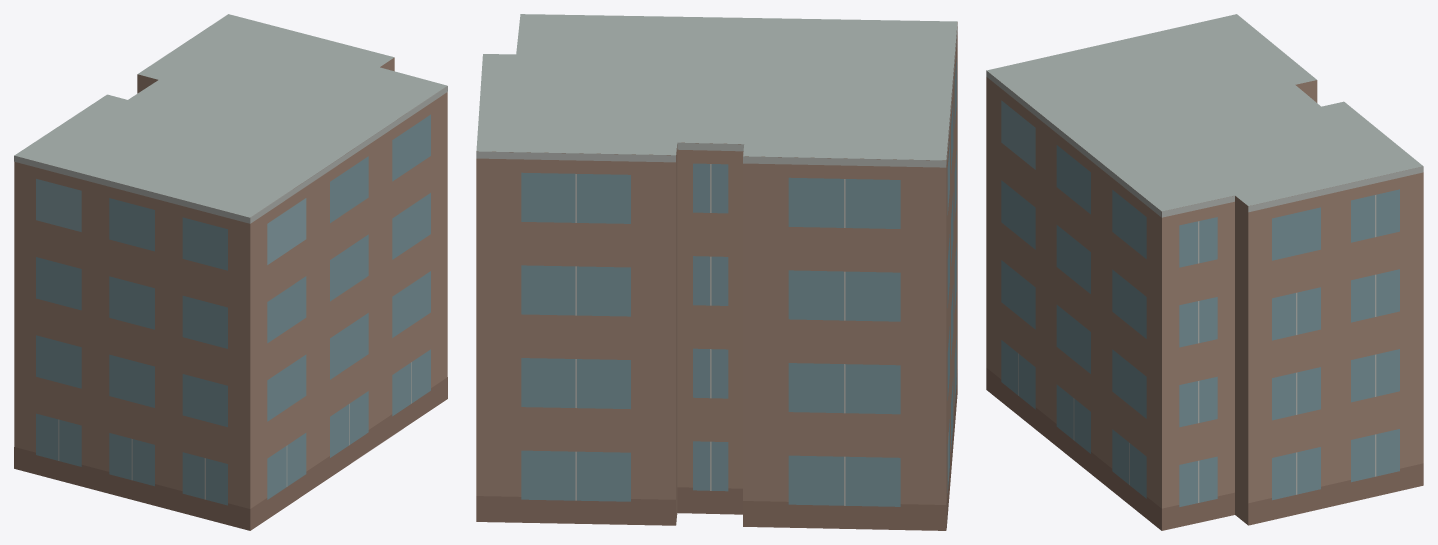
File: survey-upis-32653898.glb
3 views of the same model, side by side, from view 1: azimuth 30°, elevation 25°; view 2: azimuth 150°, elevation 25°; view 3: azimuth 270°, elevation 25° (orthographic). The views are drawn at different scales.
Visible parts, largest first — view 1: survey-upis-32653898.tmp; view 2: survey-upis-32653898.tmp; view 3: survey-upis-32653898.tmp.
Part boxes in pixels (box(x1,y1,x2,y2)): survey-upis-32653898.tmp: box(14, 14, 447, 530); survey-upis-32653898.tmp: box(476, 14, 957, 530); survey-upis-32653898.tmp: box(986, 14, 1423, 530).
Size of the model in its own units: 16.72 by 12.6 by 15.64.
